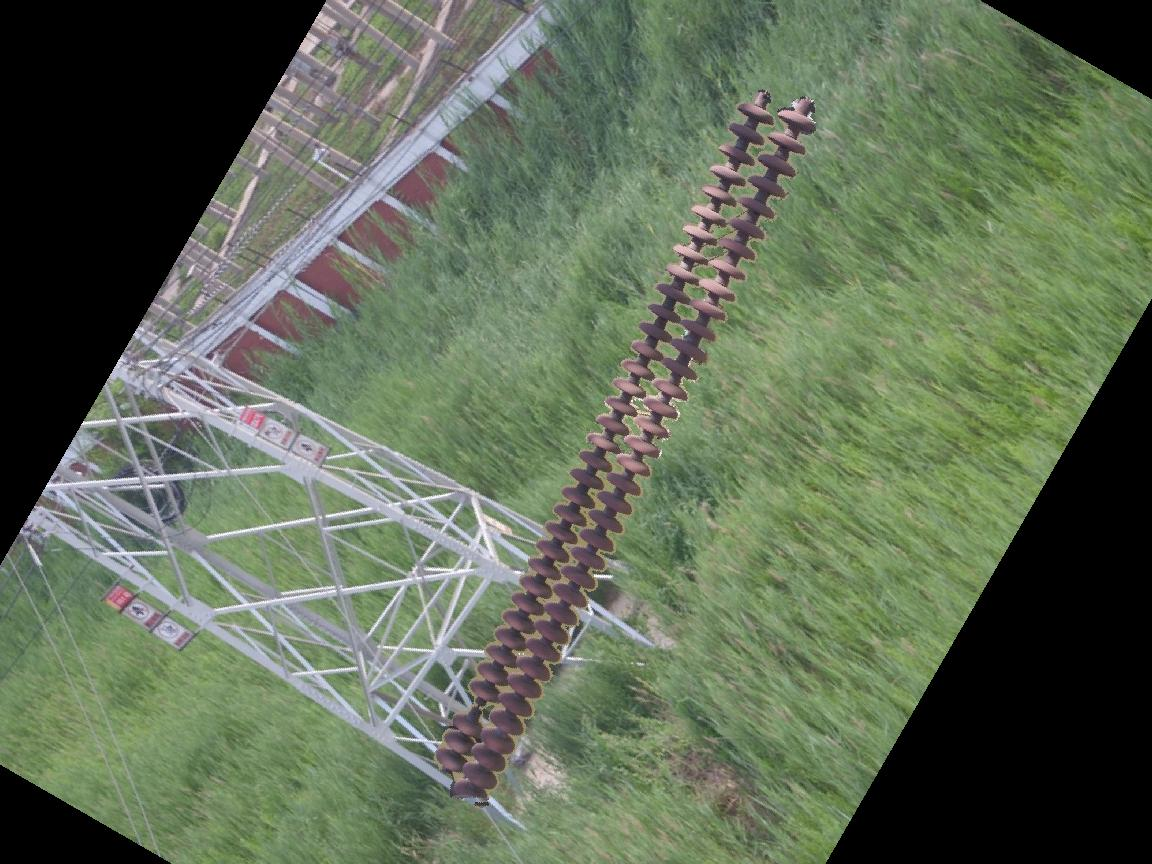insulator: (432, 91, 818, 802)
insulator_stringdrop: (450, 677, 503, 740)
